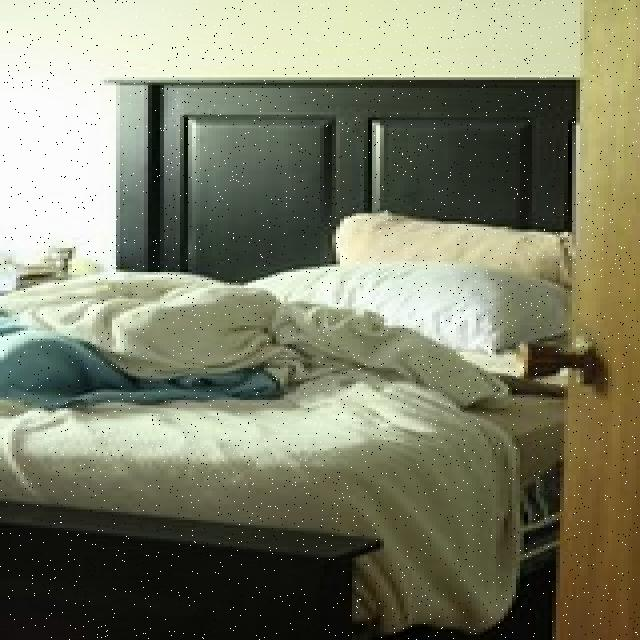bed: (0, 183, 584, 609)
